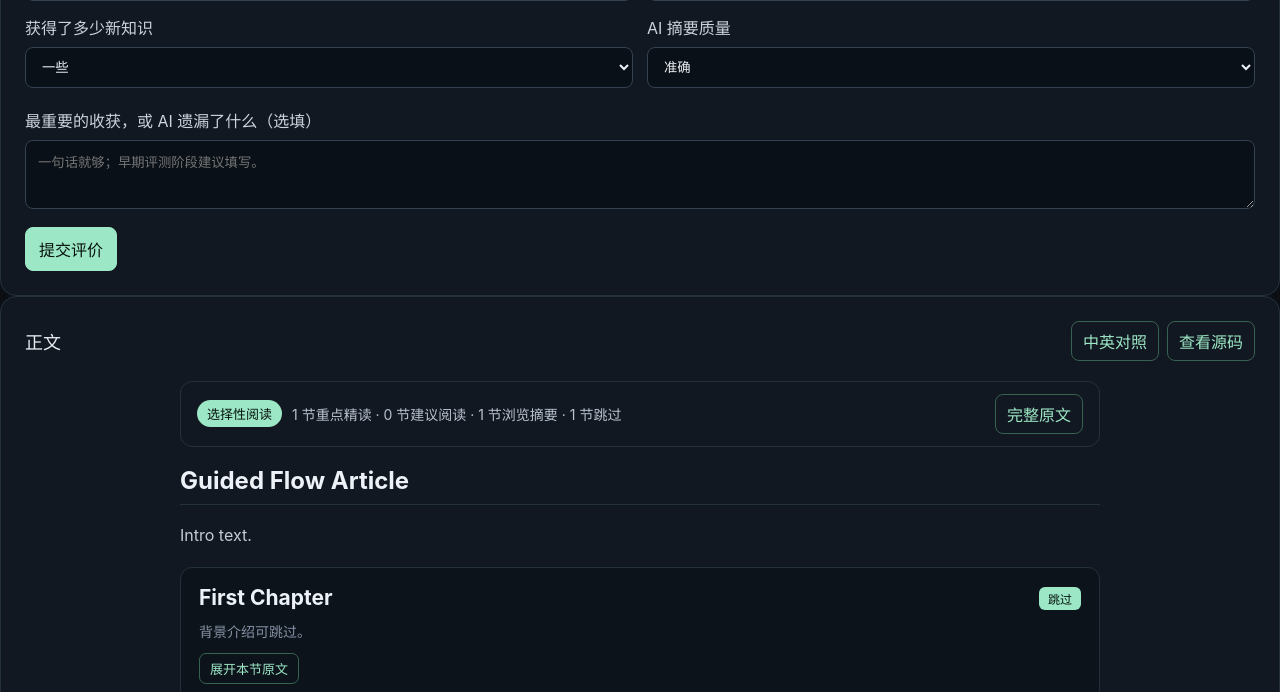
Test: 内容详情引导流与译文共存 › 中英对照视图左右两侧都按章节标注选择性阅读动作
(page scrolled)
Click the button "中英对照" at (1115,341), box x1=1071 y1=321 x2=1159 y2=361
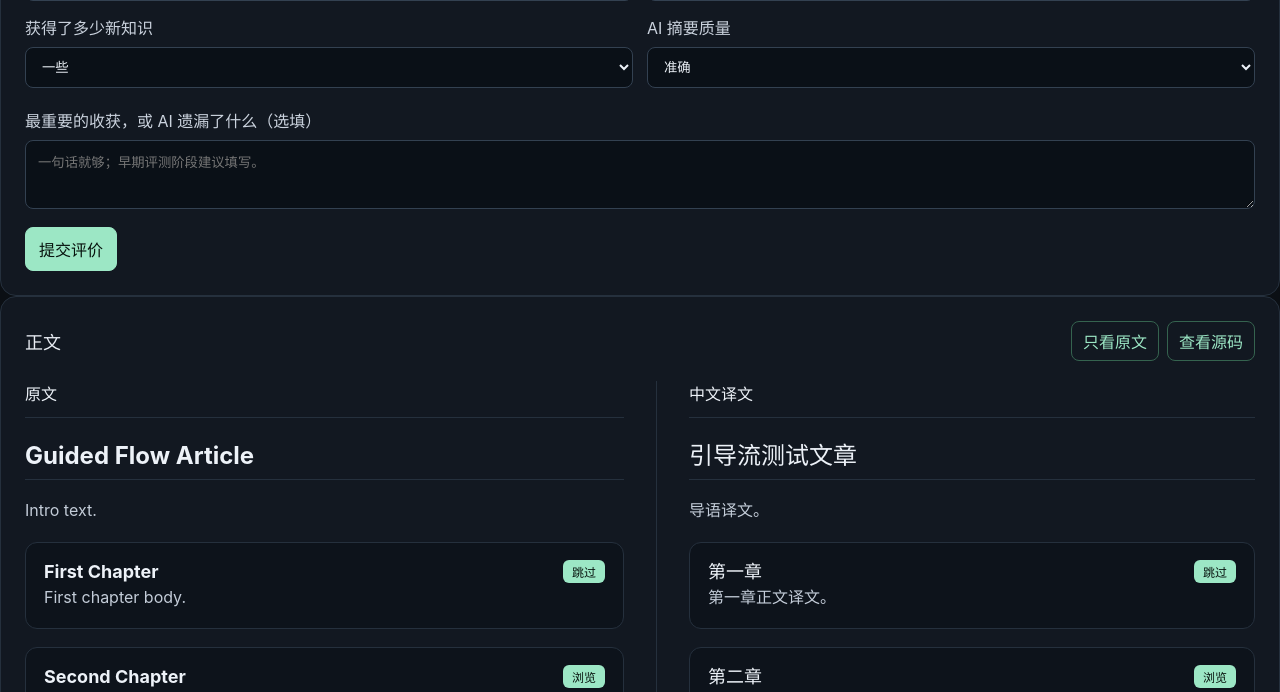
Check: the element with class "guided-section" shows "First Chapter", box x1=44 y1=561 x2=158 y2=582
Check: the element with class "guided-section" shows "First chapter body.", box x1=44 y1=588 x2=186 y2=608
Check: the element with class "guided-section" shows "第一章", box x1=708 y1=561 x2=762 y2=582
Click the button "只看原文" at (1115,341), box x1=1071 y1=321 x2=1159 y2=361
(page scrolled)
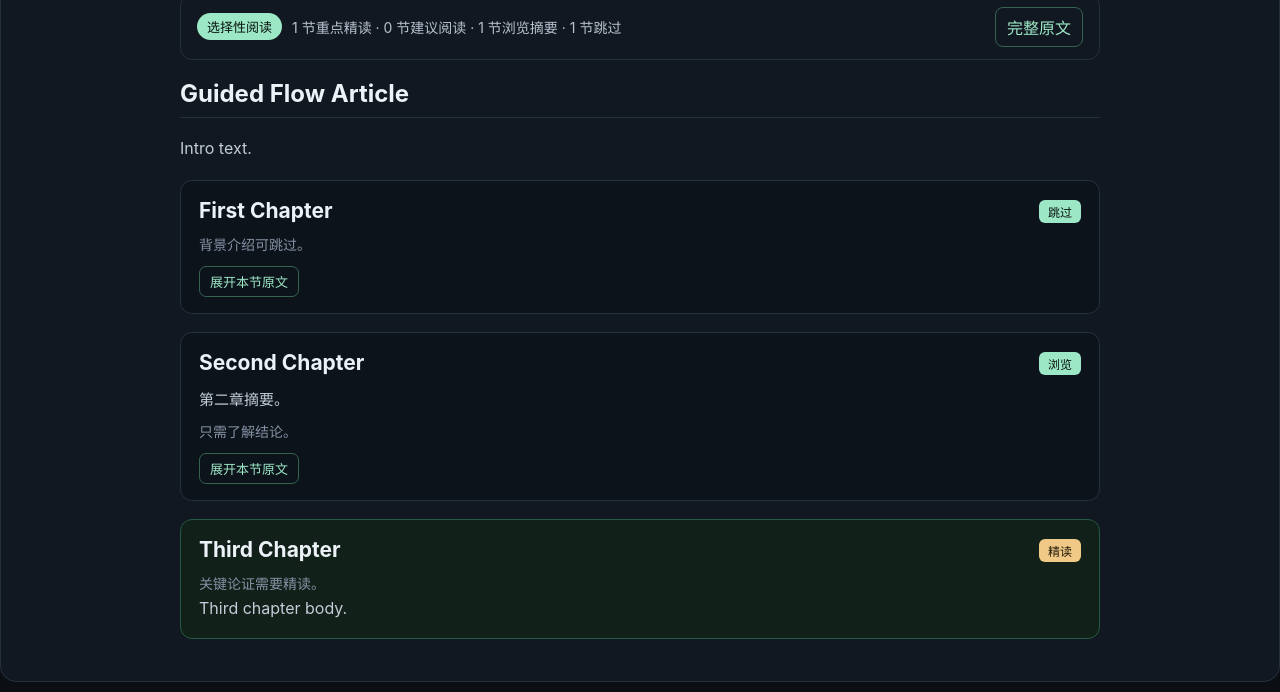
Check: the number of elements with class "guided-section" is 3, box x1=180 y1=180 x2=1100 y2=314; x1=180 y1=332 x2=1100 y2=501; x1=180 y1=519 x2=1100 y2=639
Check: the element with class "guided-section" shows "First Chapter", box x1=199 y1=198 x2=333 y2=223
Check: the element with class "guided-section" shows "Third chapter body.", box x1=199 y1=598 x2=347 y2=618
